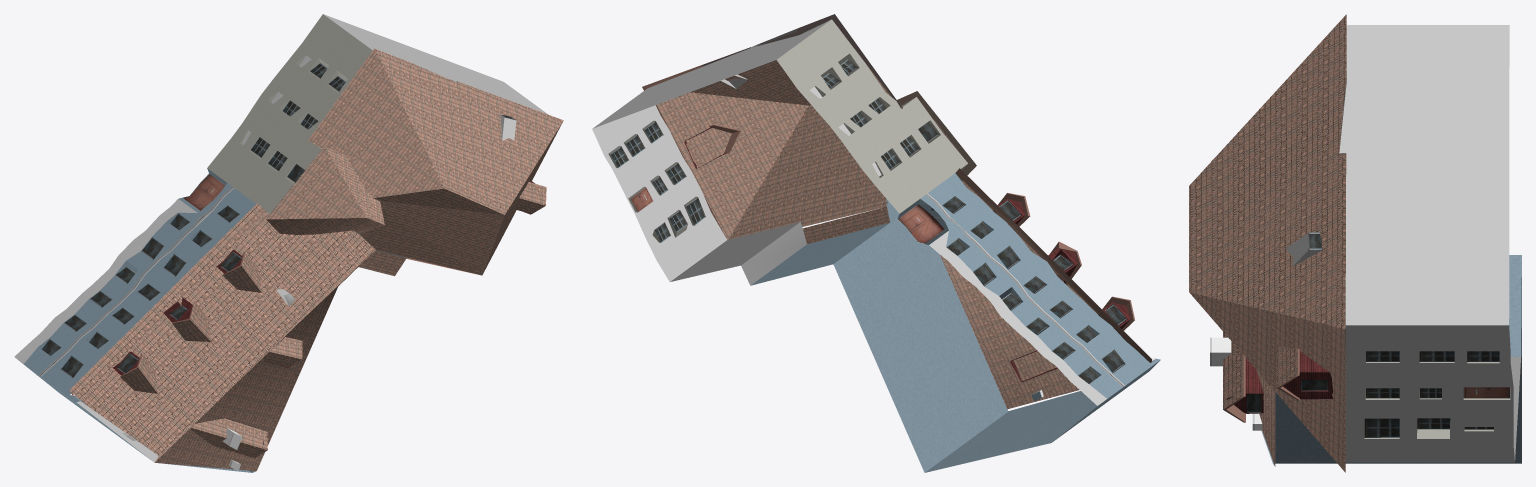
File: Laboratooriumi_14-origo.obj
3 views of the same model, side by side, from view 1: azimuth 30°, elevation 25°; view 2: azimuth 150°, elevation 25°; view 3: azimuth 270°, elevation 25° (orthographic). The views are drawn at different scales.
Visible parts, largest first — view 1: Laboratooriumi_14; view 2: Laboratooriumi_14; view 3: Laboratooriumi_14.
Boxes of the visible parts, left/top/right/bottom form: Laboratooriumi_14: left=14, top=14, right=563, bottom=472; Laboratooriumi_14: left=592, top=14, right=1160, bottom=472; Laboratooriumi_14: left=1189, top=14, right=1521, bottom=472.
Size of the model in its own units: 44.25 by 31.5 by 17.07.
